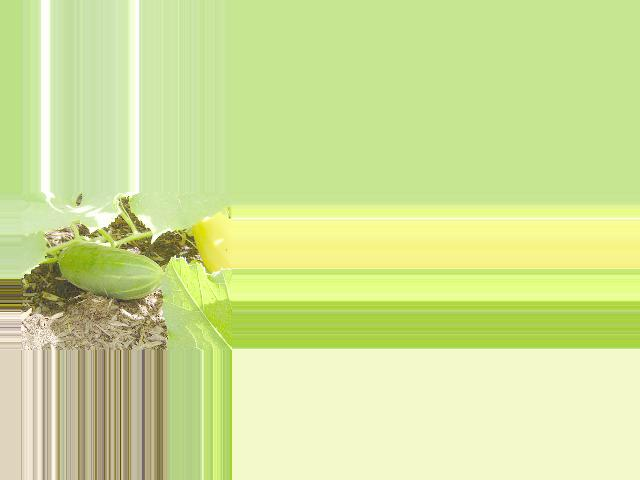cucumber: (57, 242, 163, 300)
